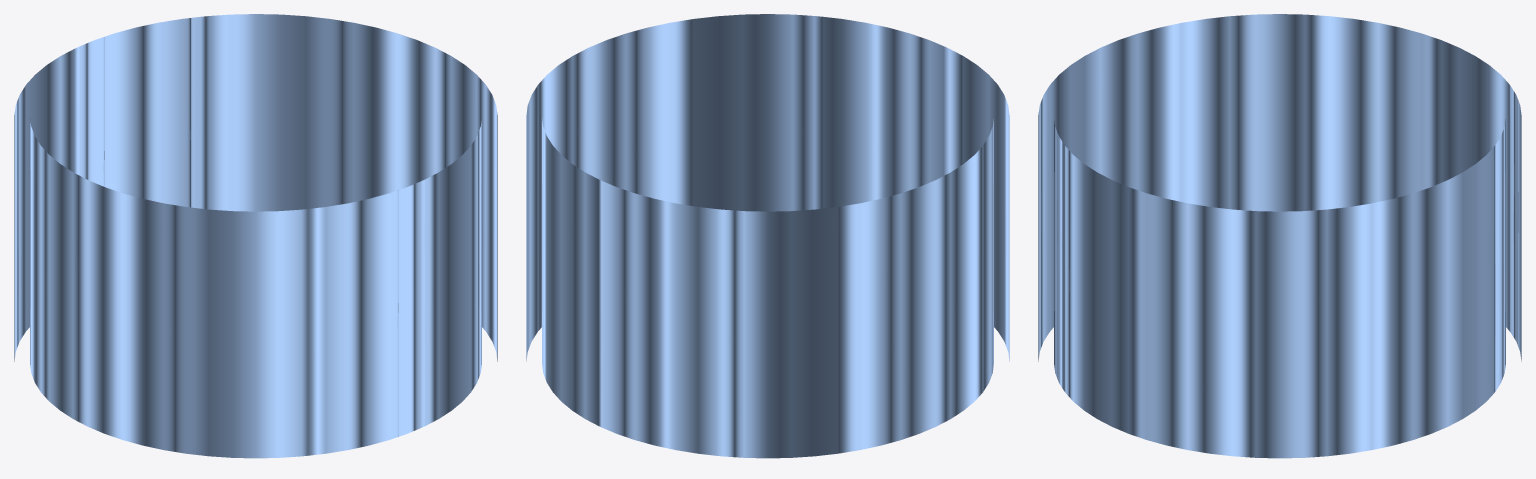
The model's file is elev_d_shaft_b.glb.
3 renders of one model, left to right at view 1: azimuth 30°, elevation 25°; view 2: azimuth 150°, elevation 25°; view 3: azimuth 270°, elevation 25°, orthographic.
Bounding box in the file's own units: 7.99 × 4.5 × 7.99.
